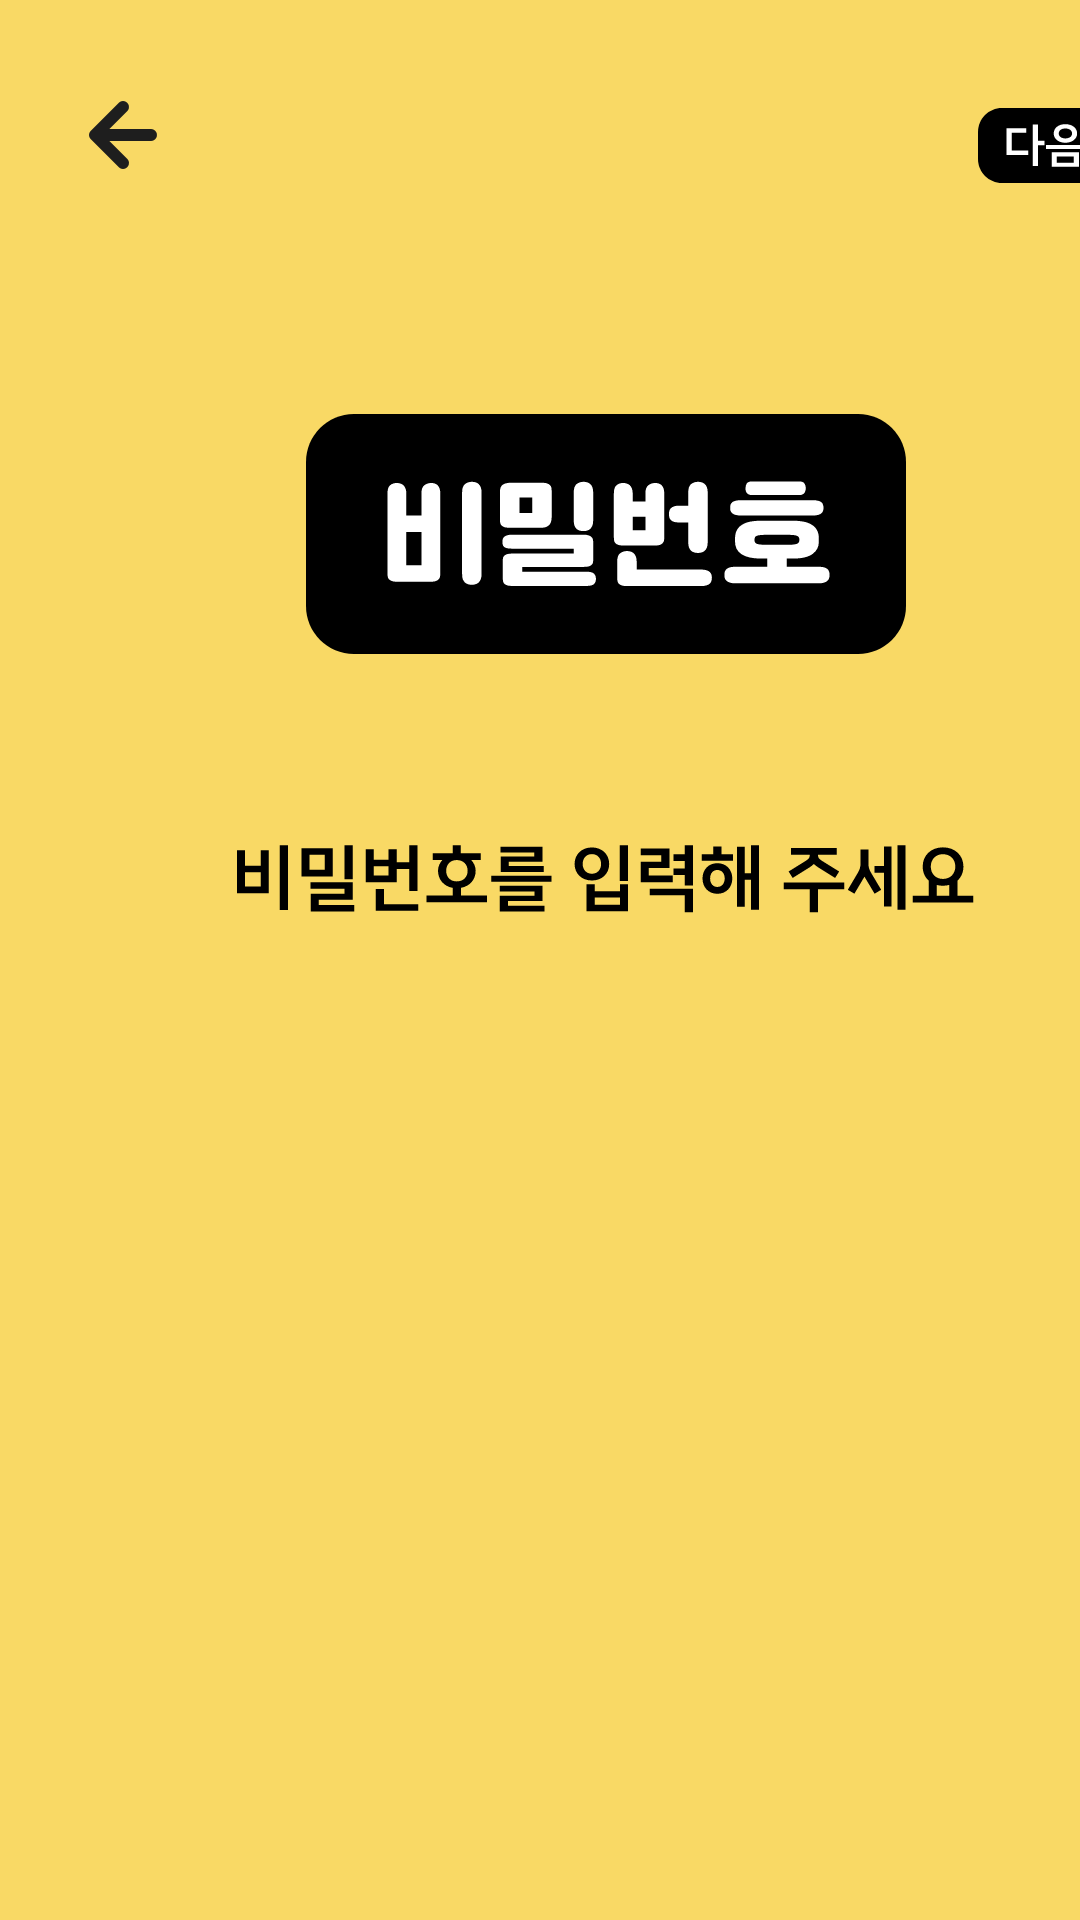

Screen size 1080px x 1920px. Icon name, then its center in pixels as (x=x, y=y):
arrow left: (x=123, y=135)
